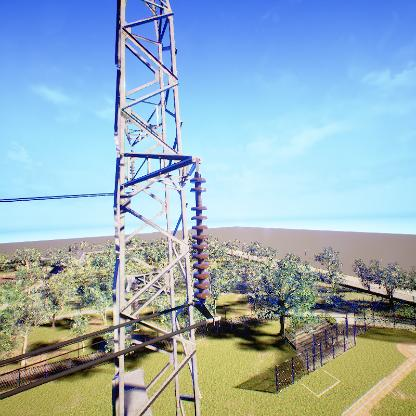insulator: (187, 172, 212, 303)
